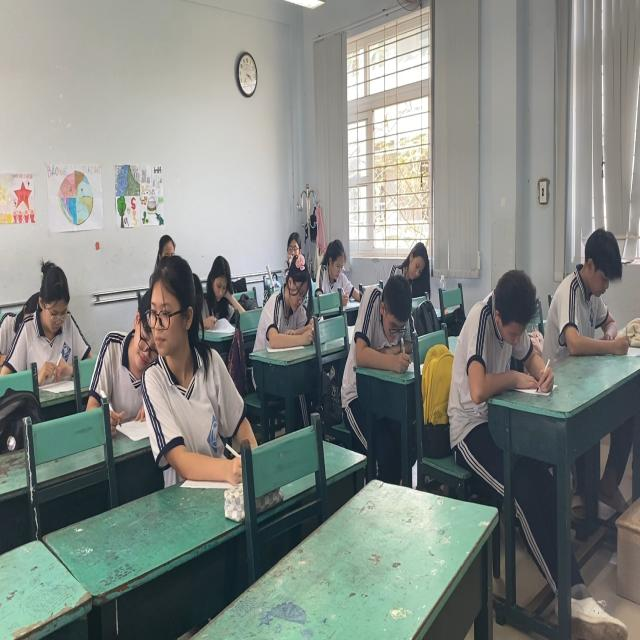cheating: (147, 254, 216, 474)
not_cheating: (456, 264, 546, 402), (552, 229, 630, 361), (10, 260, 91, 367), (102, 288, 158, 402), (364, 278, 422, 370), (263, 253, 321, 343), (202, 236, 242, 329), (397, 232, 438, 298), (321, 229, 358, 298)
